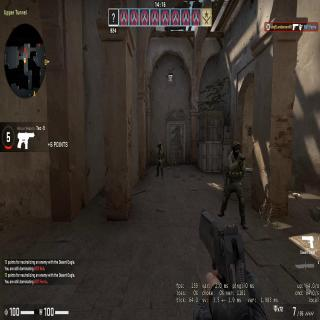CT-Body: (216, 136, 249, 228), (155, 139, 164, 174)
CT-Head: (232, 140, 240, 154), (157, 141, 161, 148)
